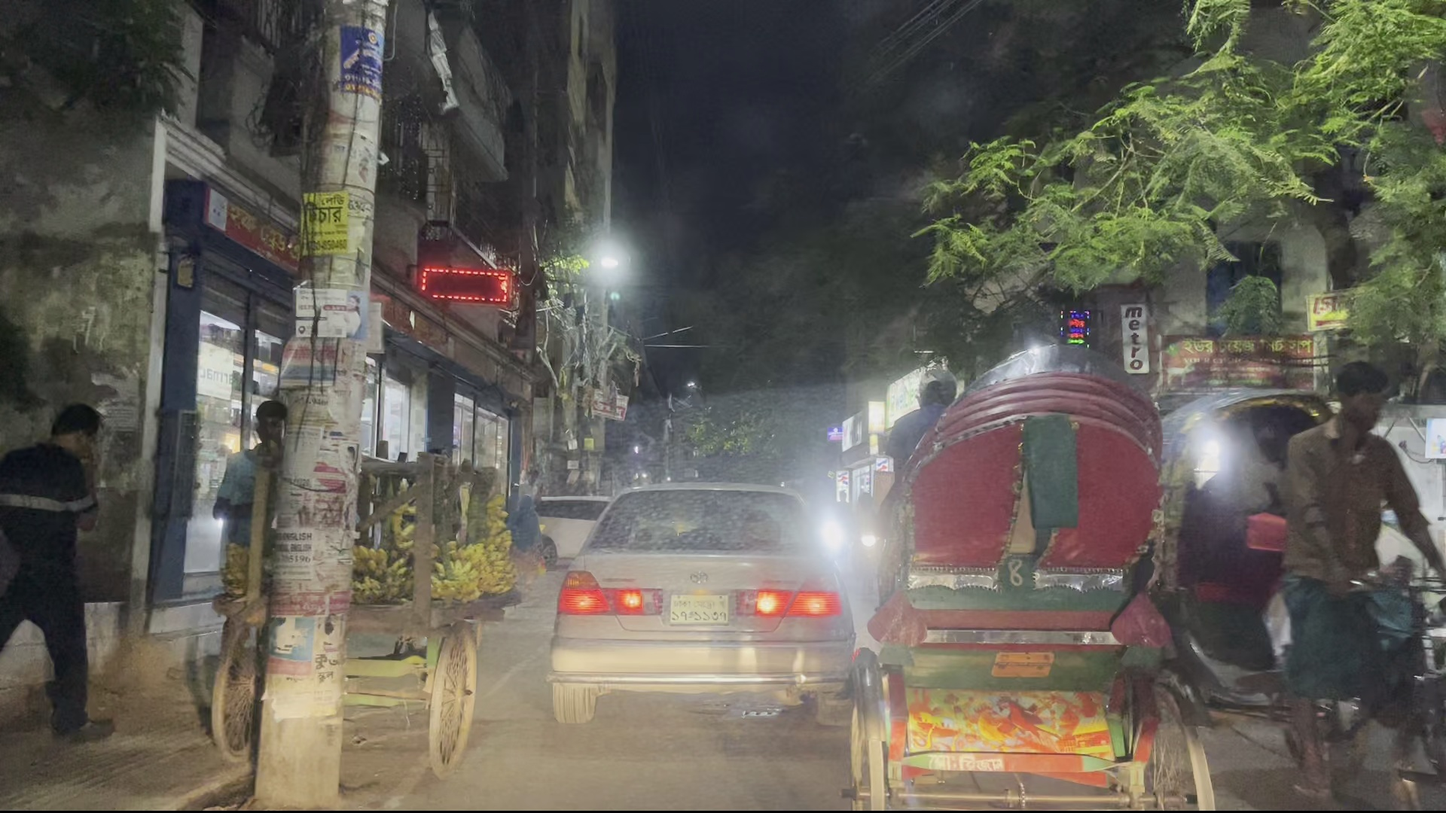car: (553, 482, 869, 727), (533, 492, 616, 574)
person: (5, 401, 116, 748), (204, 394, 288, 599)
